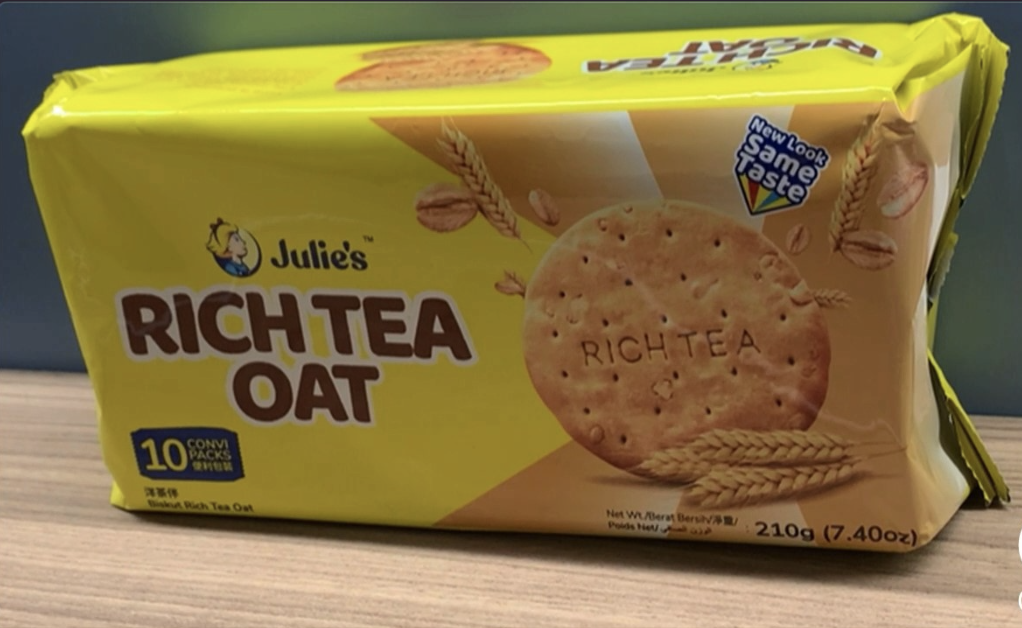cookies_200g-299g: (122, 138, 893, 501)
